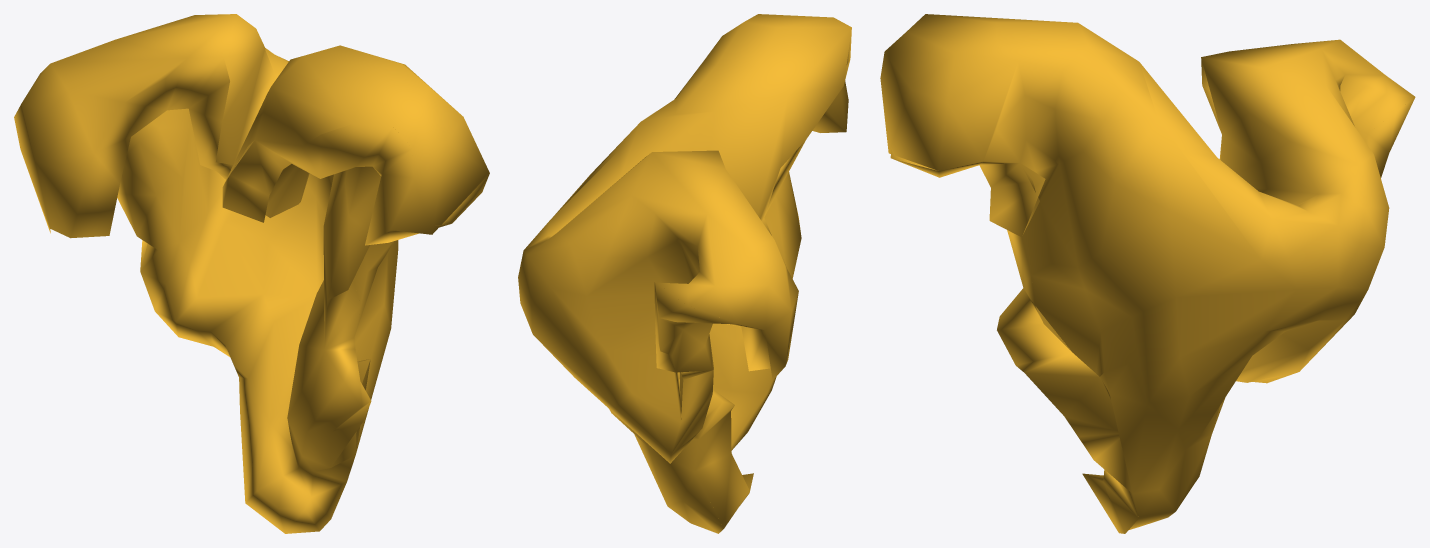
The model's file is nervoso-paracentral-gyrus-and-sulcus-r.glb.
3 renders of one model, left to right at view 1: azimuth 30°, elevation 25°; view 2: azimuth 150°, elevation 25°; view 3: azimuth 270°, elevation 25°, orthographic. The views are drawn at different scales.
Visible parts, largest first — view 1: Paracentral gyrus and sulcus*.r; view 2: Paracentral gyrus and sulcus*.r; view 3: Paracentral gyrus and sulcus*.r.
Part boxes in pixels (x1,y1,x2,y2): Paracentral gyrus and sulcus*.r: (14, 14, 489, 533); Paracentral gyrus and sulcus*.r: (518, 14, 851, 533); Paracentral gyrus and sulcus*.r: (880, 14, 1415, 533).
Size of the model in its own units: 0.0239 by 0.0376 by 0.0359.
